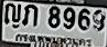letters: (4, 2, 21, 29), (22, 4, 40, 28), (47, 5, 62, 29), (77, 7, 91, 32), (62, 6, 76, 30), (92, 9, 106, 32)
province: (14, 33, 93, 47)
